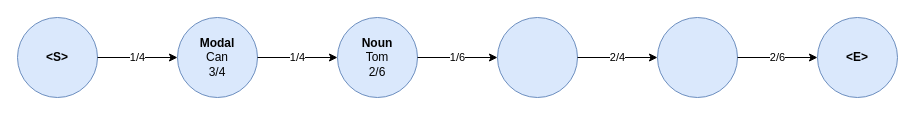
The diagram is 915 pixels wide and 115 high, and some of its shapes have lost their labels. The centre of each missing label's shape, as x and y in pixels:
"Noun watch 2/6" belongs at point 697,57.
"Verb mark 2/4" belongs at point 537,57.
